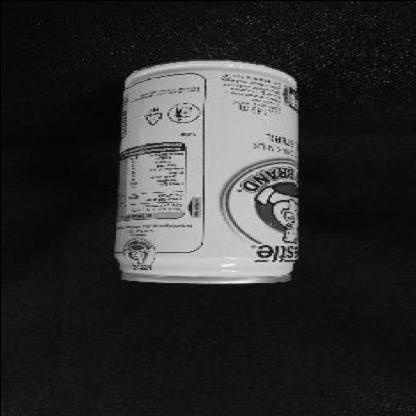alumunium_can: (112, 58, 298, 284)
